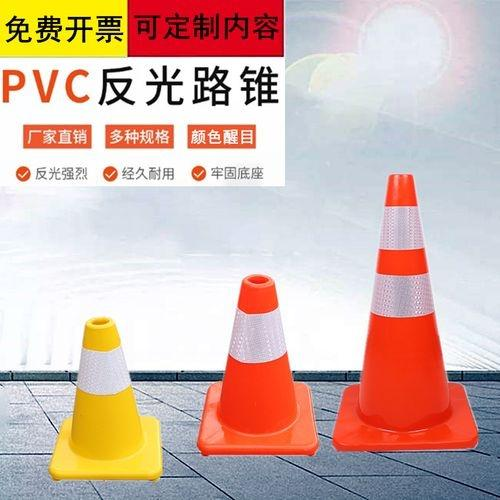cone_barrel: (338, 182, 468, 442), (44, 313, 163, 479), (202, 279, 309, 448)
